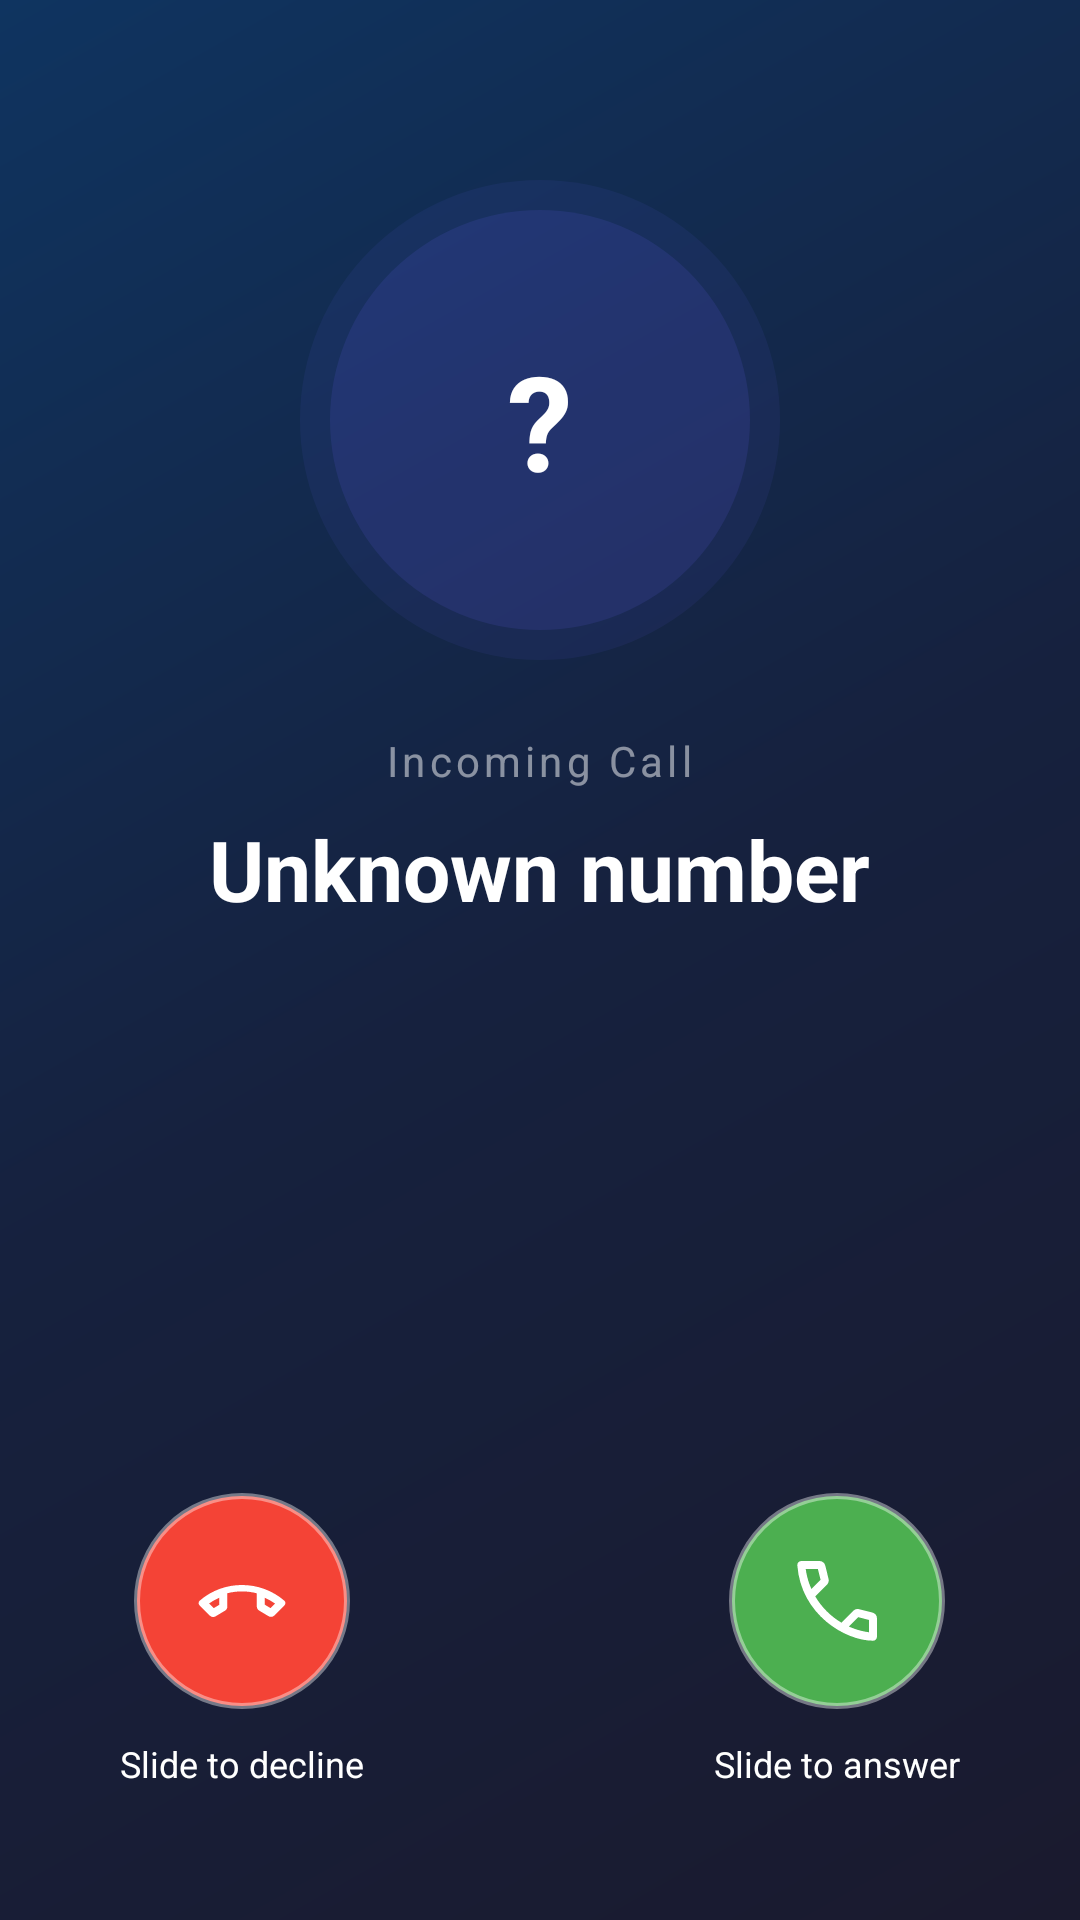

Point at icon controls on the screen. Image size 1080*1920, points as point (x, y).
call answer: point (837, 1601)
call decline: point (242, 1601)
